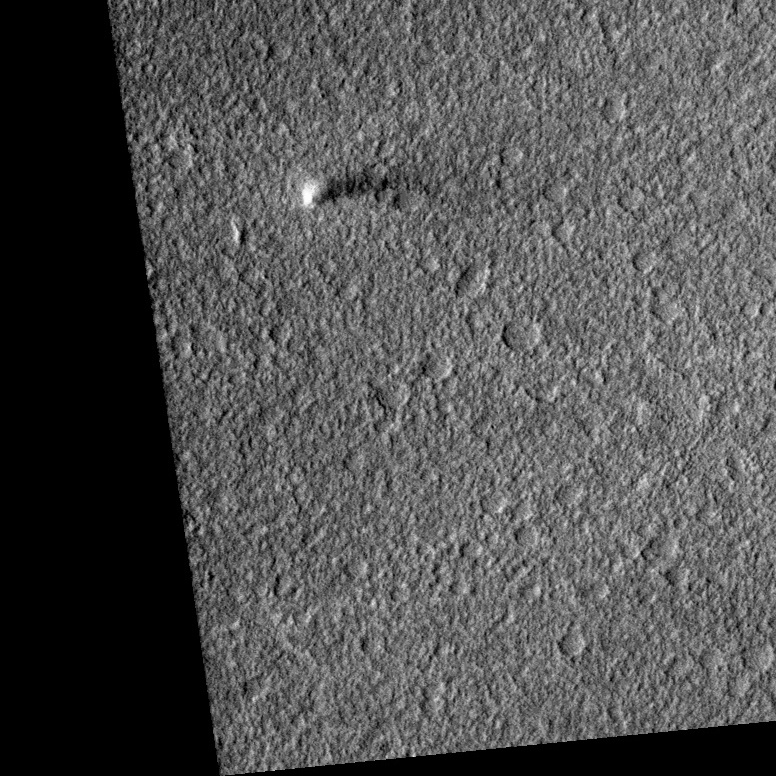dust_devil: (299, 166, 416, 213)
